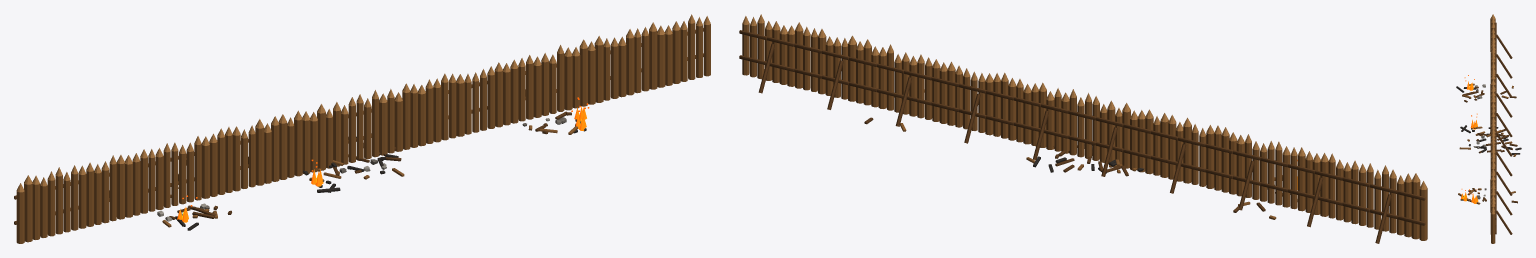
File: mur_bok_etap1.glb
3 renders of one model, left to right at view 1: azimuth 30°, elevation 25°; view 2: azimuth 150°, elevation 25°; view 3: azimuth 270°, elevation 25°, orthographic. The views are drawn at different scales.
Visible parts, largest first — view 1: mur_bok_etap1; view 2: mur_bok_etap1; view 3: mur_bok_etap1.
Boxes of the visible parts, x1=… form: mur_bok_etap1: x1=14, y1=14, x2=710, y2=243; mur_bok_etap1: x1=739, y1=14, x2=1427, y2=243; mur_bok_etap1: x1=1456, y1=14, x2=1521, y2=243.
Size of the model in its own units: 39.99 by 3.7 by 5.67.
